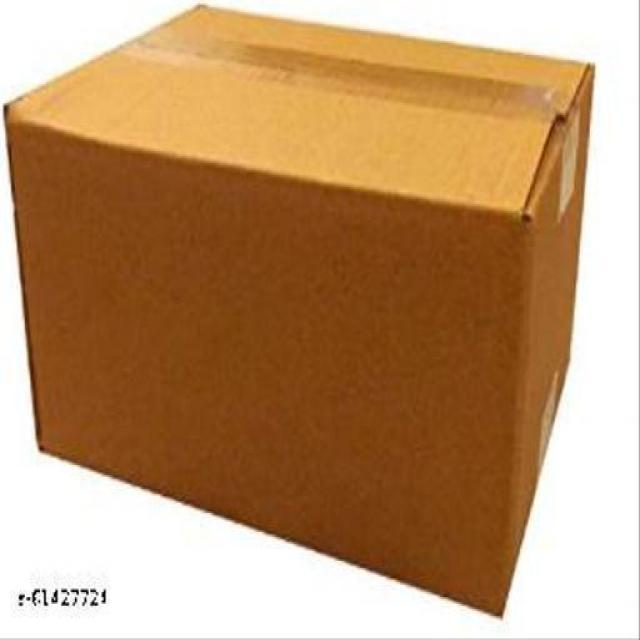box: (2, 5, 598, 621)
